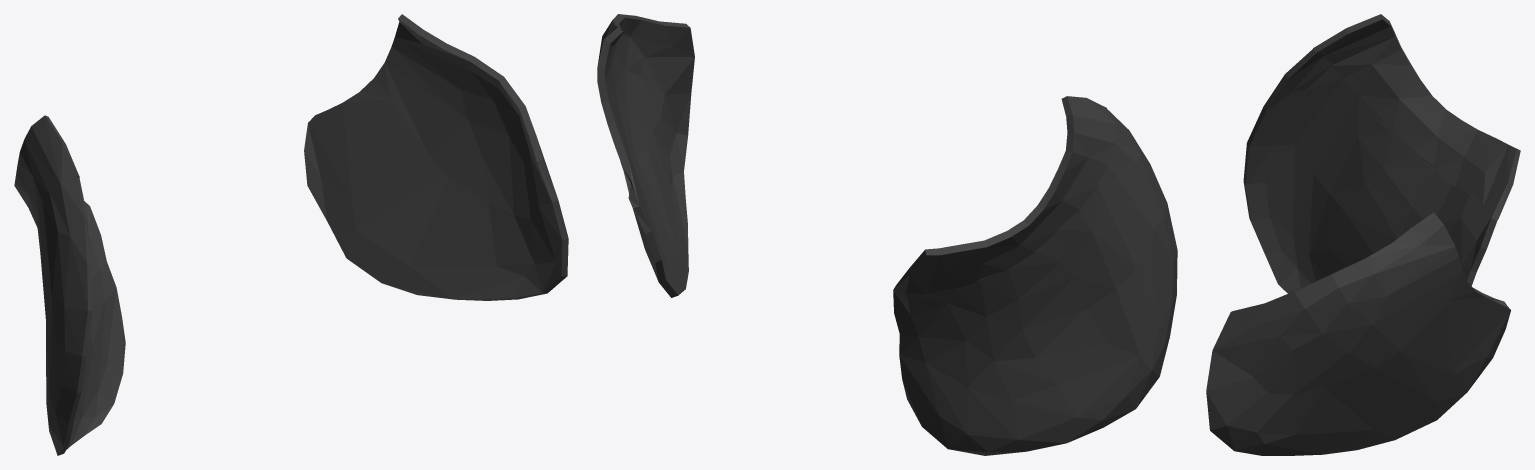
File: l1_caudal_articular_surface.glb
The picture shows the model from 3 angles, left to right: view 1: azimuth 30°, elevation 25°; view 2: azimuth 150°, elevation 25°; view 3: azimuth 270°, elevation 25°; orthographic projection. The views are drawn at different scales.
Visible parts, largest first — view 1: l1_caudal_articular_surface; view 2: l1_caudal_articular_surface; view 3: l1_caudal_articular_surface.
Boxes of the visible parts, x1=… form: l1_caudal_articular_surface: x1=14, y1=14, x2=568, y2=455; l1_caudal_articular_surface: x1=597, y1=14, x2=1177, y2=455; l1_caudal_articular_surface: x1=1206, y1=14, x2=1520, y2=455.
Size of the model in its own units: 18.21 by 12.06 by 10.28.
Materials: 1 (1 with a texture image).
